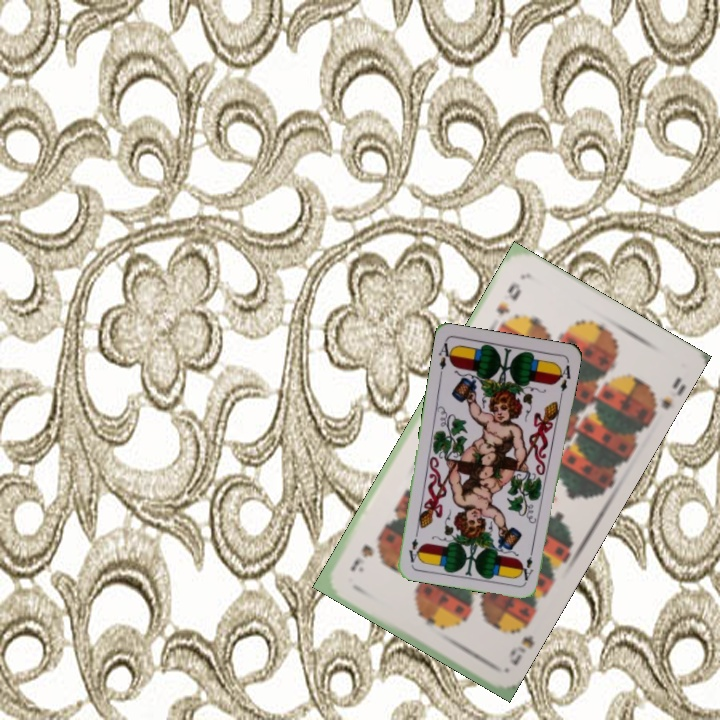EA: (435, 337, 456, 378), (520, 543, 536, 583)
S9: (505, 615, 536, 668), (492, 278, 524, 318)
